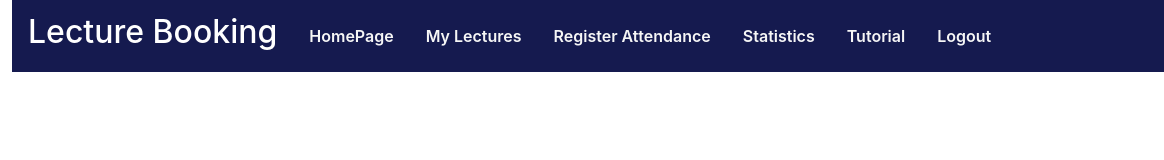
Test: Check Home Page
The width and height of the screenshot is (1164, 160).
Click the link "HomePage" at coordinates (352, 36), box [309, 26, 394, 46]
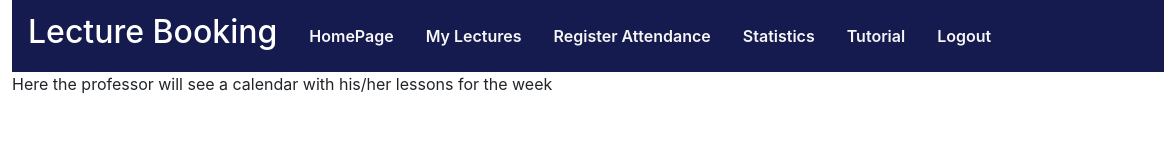
Check: the text "Here the professor will see a calendar with his/her lessons for the week" is shown, box [12, 74, 552, 94]
